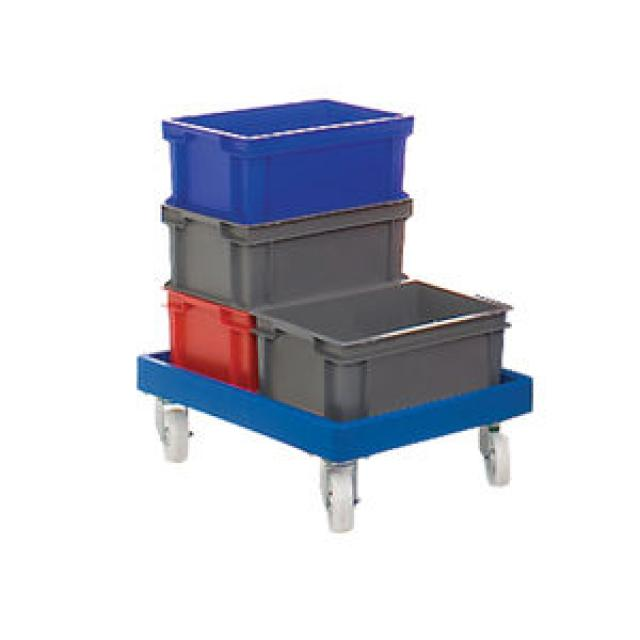basket: (242, 255, 527, 440), (156, 81, 427, 240), (164, 198, 414, 312), (150, 290, 280, 391)
